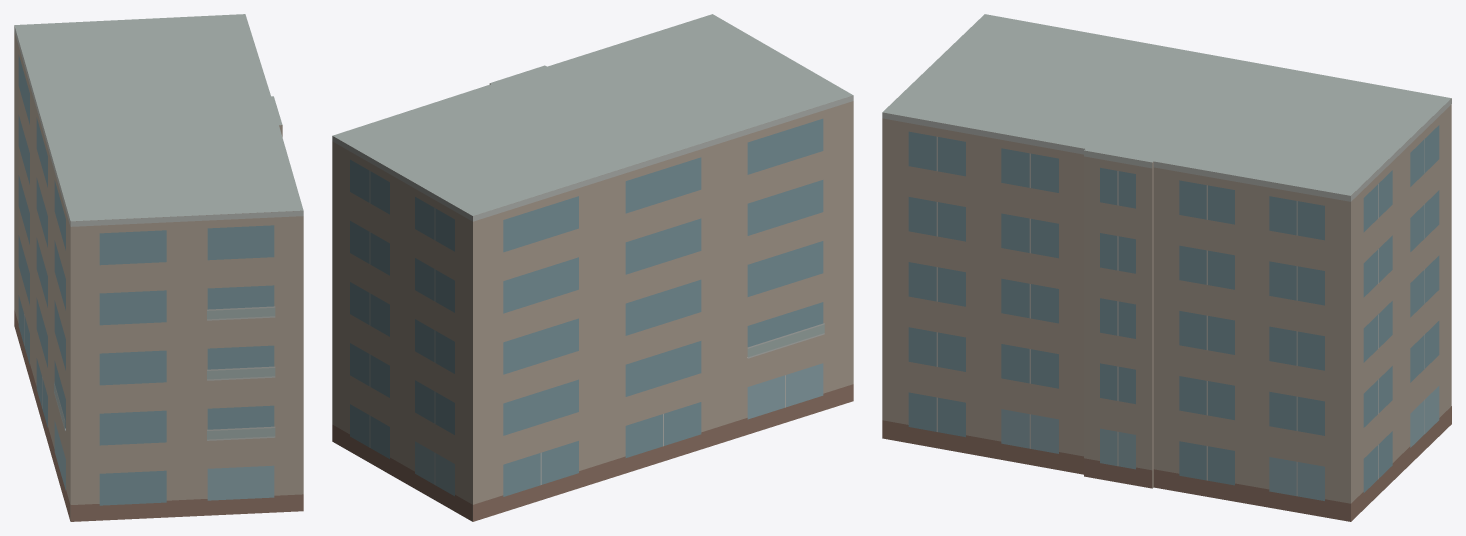
File: survey-upis-32915805.glb
3 renders of one model, left to right at view 1: azimuth 30°, elevation 25°; view 2: azimuth 150°, elevation 25°; view 3: azimuth 270°, elevation 25°, orthographic. The views are drawn at different scales.
Visible parts, largest first — view 1: survey-upis-32915805.tmp; view 2: survey-upis-32915805.tmp; view 3: survey-upis-32915805.tmp.
Part boxes in pixels (x1,y1,x2,y2): survey-upis-32915805.tmp: (14,14,303,521); survey-upis-32915805.tmp: (332,14,853,521); survey-upis-32915805.tmp: (882,14,1451,521).
Size of the model in its own units: 15.92 by 13.3 by 21.06.
